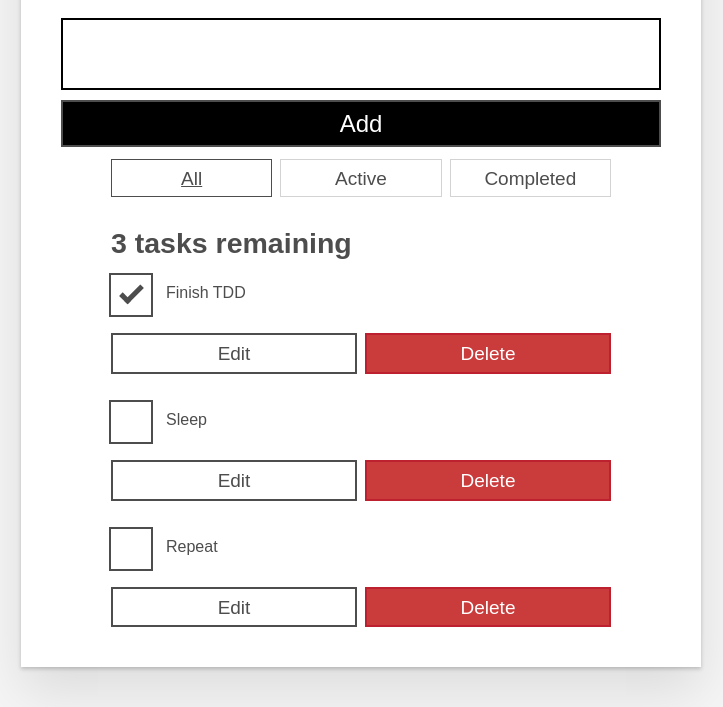
Todo App › Test eight - check for all active tasks
(page scrolled)
Step 1. Click the button "Active" → [361, 179], box [280,159,441,198]
(page scrolled)
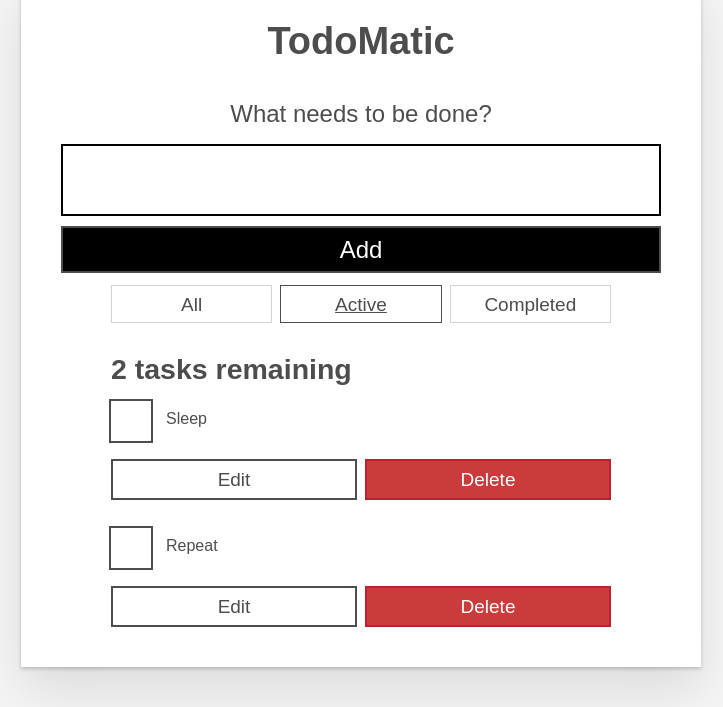
expect the checkbox with class "c-cb" reads "Sleep": met, box [151,401,222,434]
expect the number of elements with class "c-cb" is 2: met, box [166,410,207,427]; [166,537,218,554]
